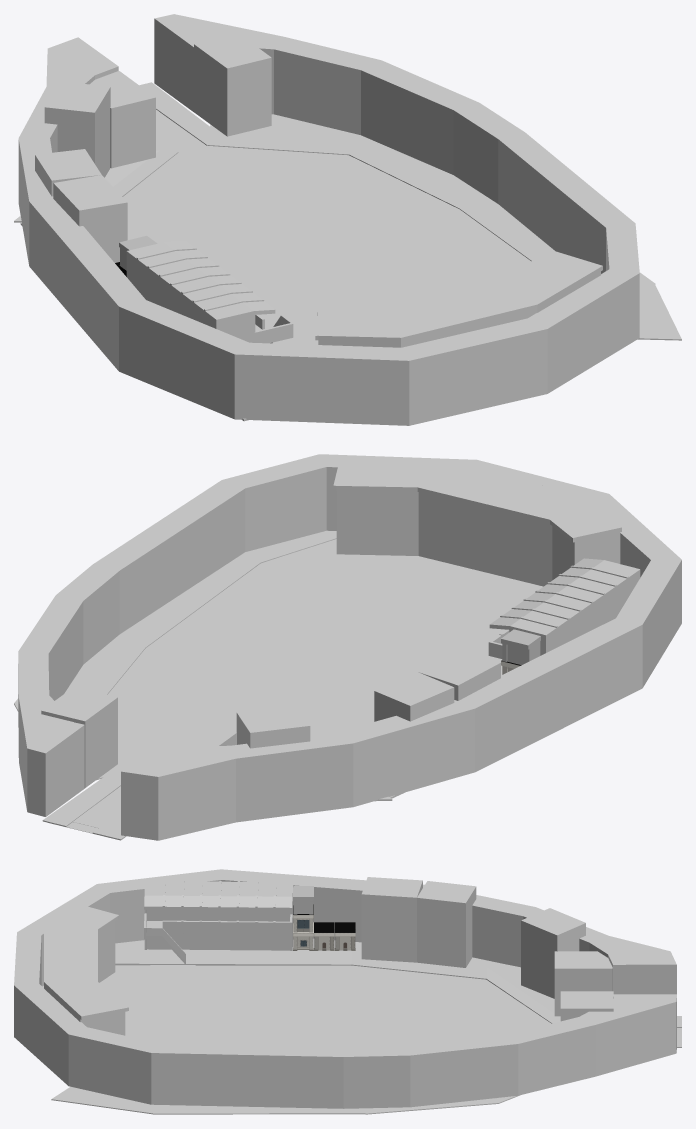
Rendered from BarrioEvan.fbx.
3 renders of one model, top to bottom at view 1: azimuth 30°, elevation 25°; view 2: azimuth 150°, elevation 25°; view 3: azimuth 270°, elevation 25°, orthographic. The views are drawn at different scales.
Parts seen in each view (by area): view 1: Cube.043, Cube.042, Cube.039, Cube.044, Cube.040, Cube.045, Cube.050, Cube.046, Cube.048, Cube.047; view 2: Cube.043, Cube.042, Cube.044, Cube.039, Cube.040, Cube.045, Cube.047, Cube.050, Cube.048, Cube.046, Cube.004; view 3: Cube.043, Cube.042, Cube.039, Cube.040, Cube.044, Cube.048, Cube.047, Cube.050, Cube.046, Cube.045, Cube.003, Cube.009 (+3 smaller).
Part boxes in pixels (bbox=[...]): Cube.043: bbox=[18, 14, 639, 425]; Cube.042: bbox=[123, 109, 530, 344]; Cube.039: bbox=[14, 82, 681, 421]; Cube.044: bbox=[315, 249, 602, 347]; Cube.040: bbox=[126, 241, 293, 343]; Cube.045: bbox=[194, 33, 271, 136]; Cube.050: bbox=[44, 81, 110, 177]; Cube.046: bbox=[90, 71, 155, 168]; Cube.048: bbox=[53, 175, 127, 262]; Cube.047: bbox=[35, 149, 101, 196]; Cube.043: bbox=[18, 454, 681, 840]; Cube.042: bbox=[73, 539, 543, 828]; Cube.044: bbox=[333, 458, 621, 586]; Cube.039: bbox=[14, 530, 404, 840]; Cube.040: bbox=[488, 558, 640, 658]; Cube.045: bbox=[41, 686, 117, 787]; Cube.047: bbox=[374, 672, 454, 721]; Cube.050: bbox=[236, 705, 310, 748]; Cube.048: bbox=[418, 649, 500, 700]; Cube.046: bbox=[164, 720, 236, 746]; Cube.004: bbox=[501, 629, 540, 664]; Cube.043: bbox=[14, 869, 676, 1108]; Cube.042: bbox=[100, 965, 550, 1046]; Cube.039: bbox=[42, 938, 681, 1114]; Cube.040: bbox=[144, 880, 293, 964]; Cube.044: bbox=[44, 905, 128, 1035]; Cube.048: bbox=[361, 877, 422, 962]; Cube.047: bbox=[417, 881, 476, 967]; Cube.050: bbox=[521, 908, 585, 998]; Cube.046: bbox=[554, 951, 612, 1016]; Cube.045: bbox=[560, 991, 613, 1021]; Cube.003: bbox=[314, 922, 334, 950]; Cube.009: bbox=[335, 922, 355, 950].
Bounding box in the file's own units: 5948 × 965 × 8753.
